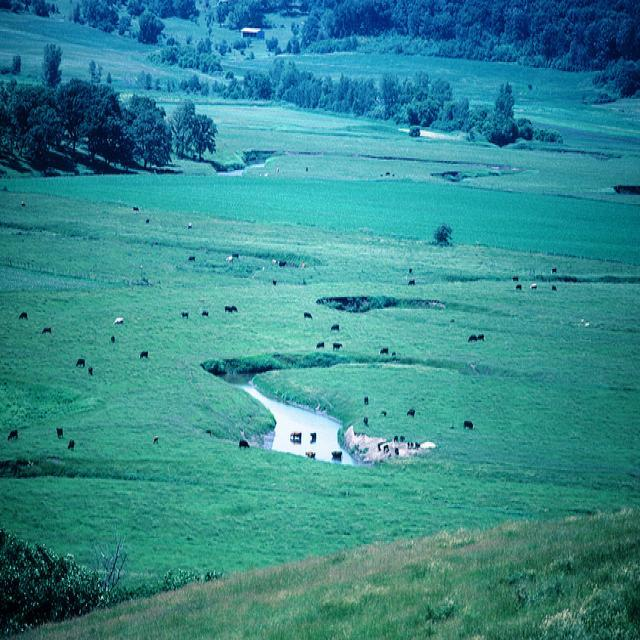cow: (6, 77, 588, 461), (237, 437, 248, 448), (109, 315, 121, 325), (224, 303, 237, 310), (462, 418, 472, 427), (467, 333, 476, 342), (332, 340, 341, 349), (75, 356, 83, 365), (329, 322, 338, 330), (138, 349, 147, 356), (314, 340, 323, 346), (204, 427, 210, 435), (86, 367, 91, 373), (200, 309, 207, 313)
